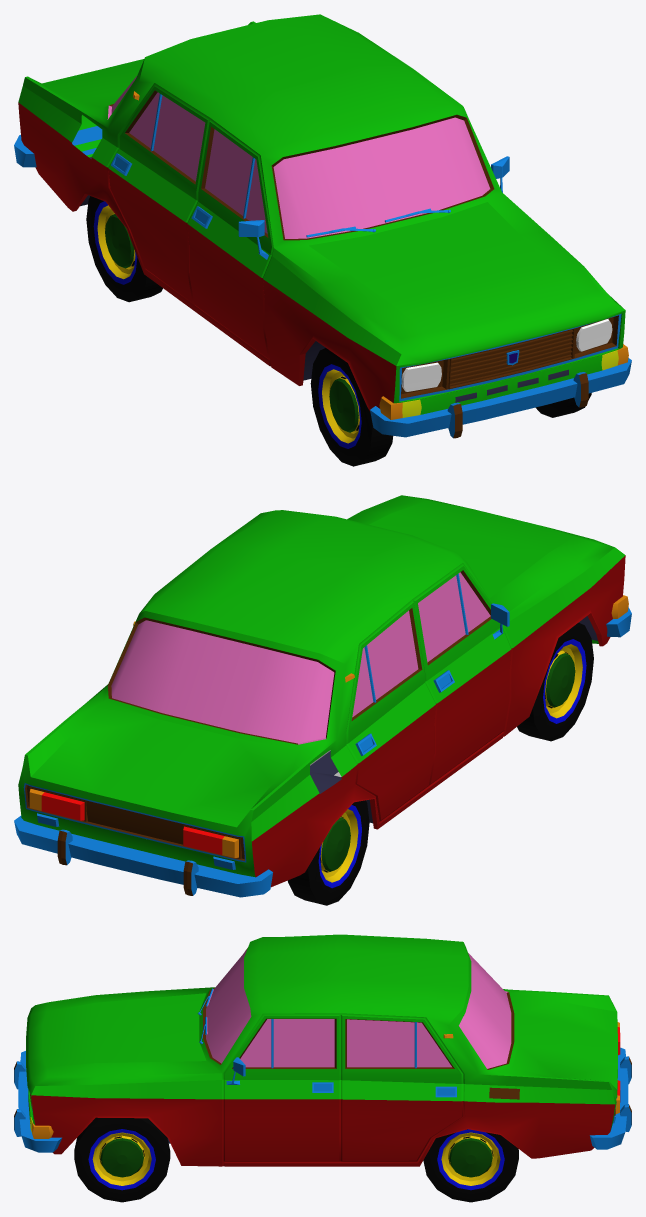
Rendered from Moscvich1.fbx.
3 renders of one model, top to bottom at view 1: azimuth 30°, elevation 25°; view 2: azimuth 150°, elevation 25°; view 3: azimuth 270°, elevation 25°, orthographic. The views are drawn at different scales.
Parts seen in each view (by area): view 1: Body, Wheel_FR, Wheel_RR; view 2: Body, Wheel_FR, Wheel_RR; view 3: Body, Wheel_FL, Wheel_RL.
Part boxes in pixels (<box>): Body: <box>14,14,631,438</box>; Wheel_FR: <box>310,348,393,466</box>; Wheel_RR: <box>86,196,162,302</box>; Body: <box>14,495,631,897</box>; Wheel_FR: <box>517,622,593,741</box>; Wheel_RR: <box>287,800,369,905</box>; Body: <box>14,934,631,1166</box>; Wheel_FL: <box>74,1117,170,1202</box>; Wheel_RL: <box>423,1129,518,1202</box>.
Size of the model in its own units: 165 by 147 by 422.
